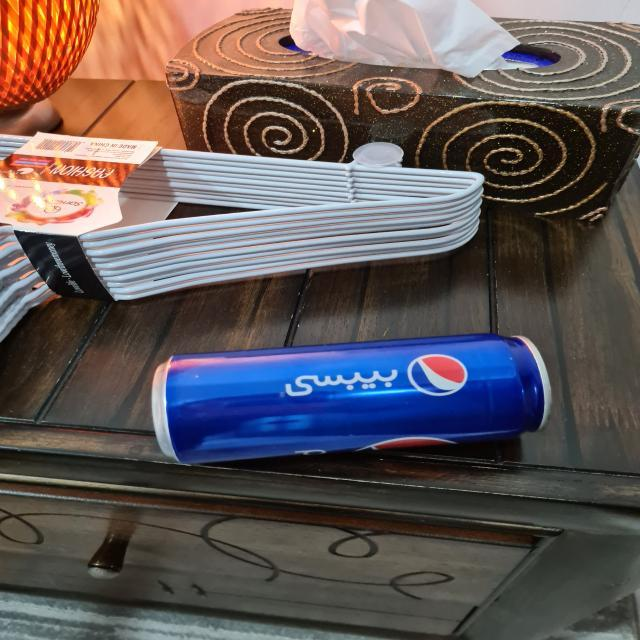can: (134, 332, 562, 462)
